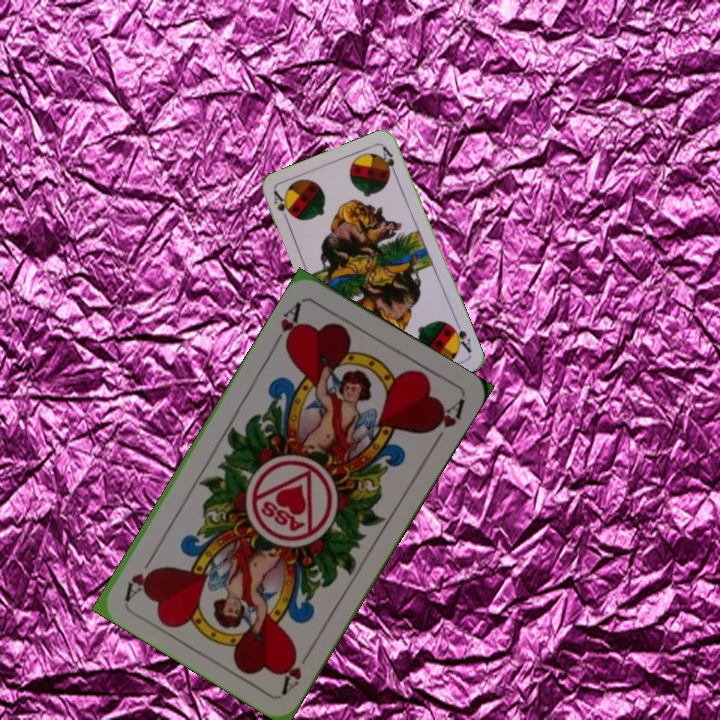HA: (277, 643, 316, 697), (268, 297, 305, 352)
SA: (446, 318, 474, 355), (269, 187, 294, 226)
